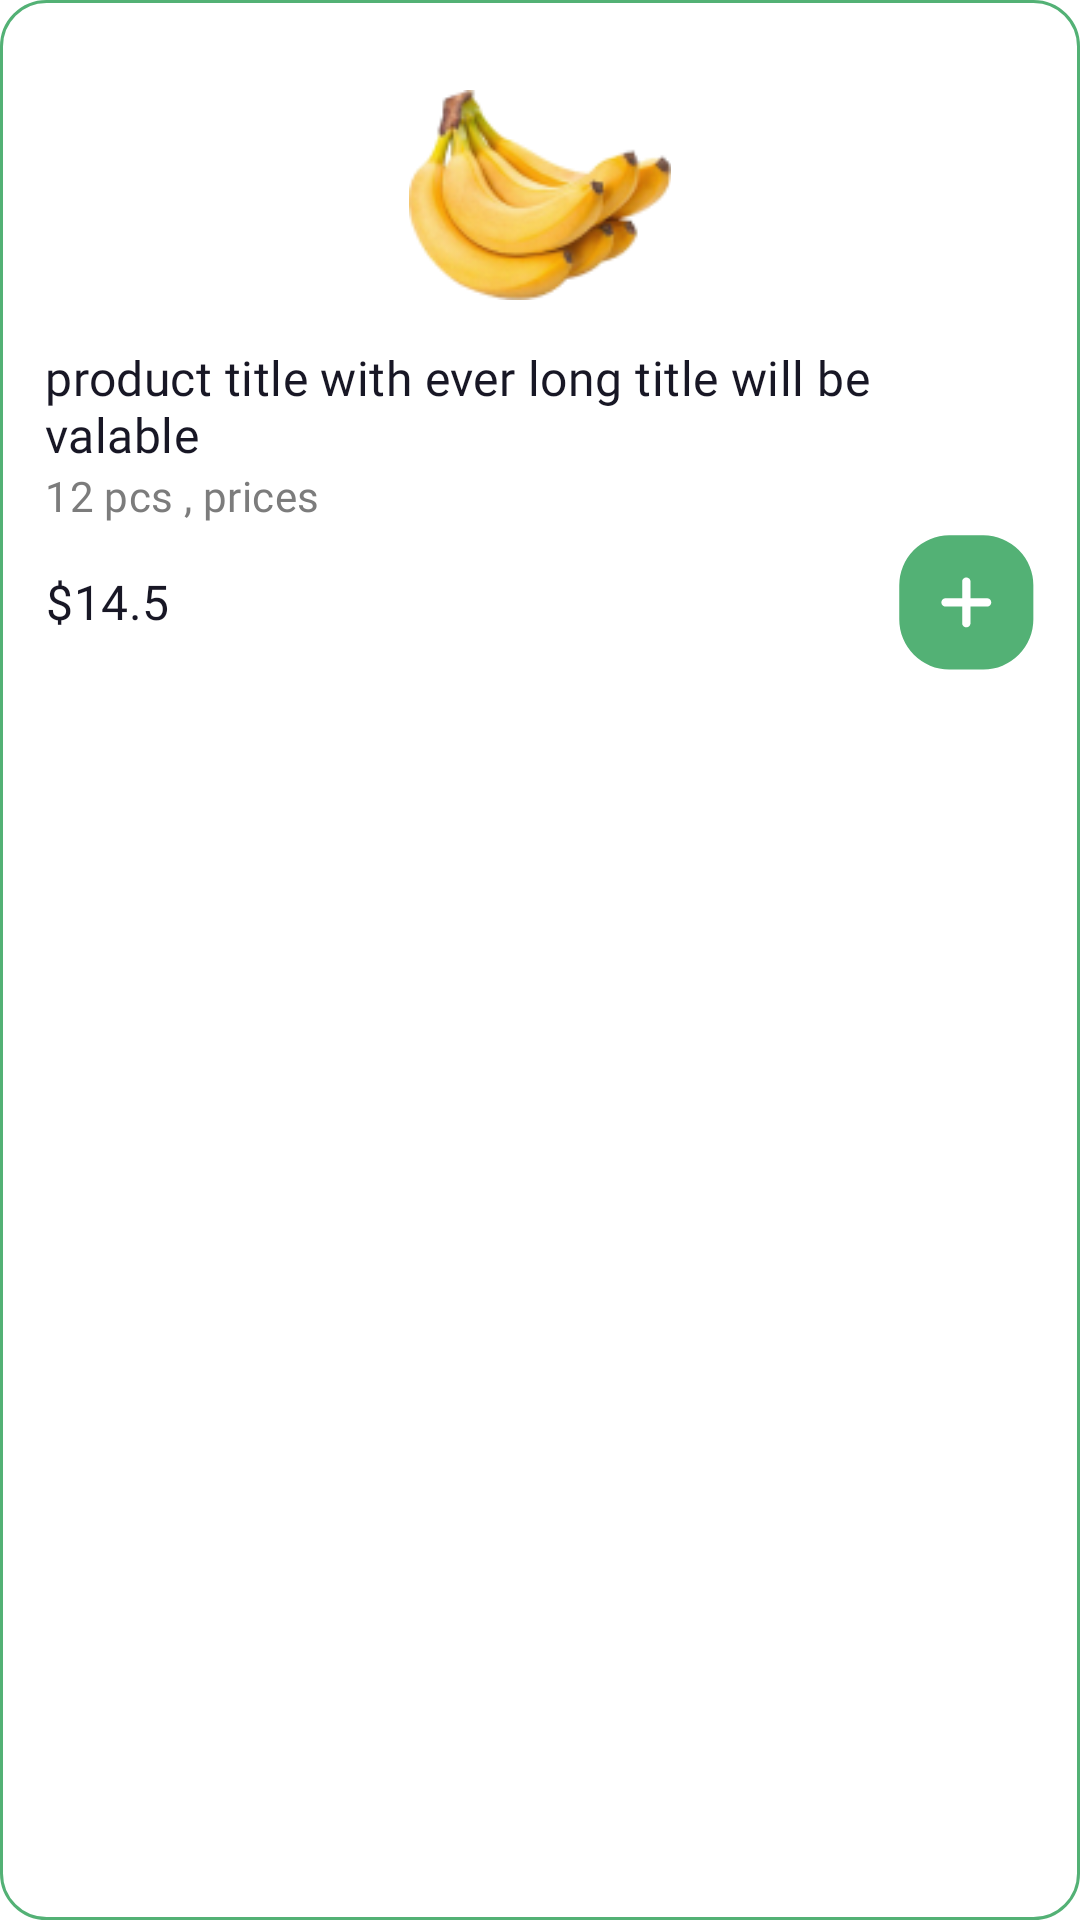

Named icons in this screenshot (1080 x 1920) and their centers, [x,y]:
add: [966,602]
banana: [540,195]
